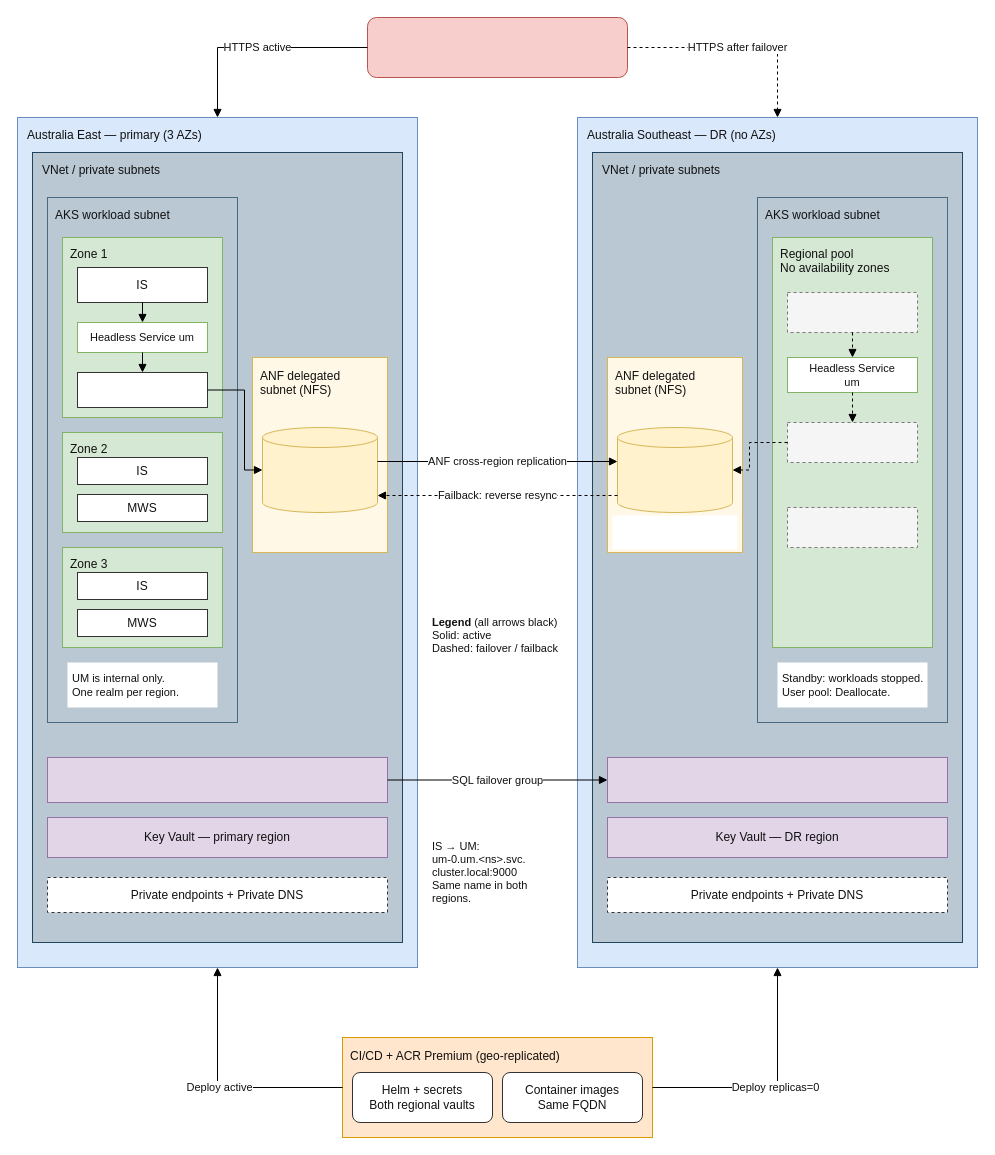
Image size: 995x1155. Some labels were removed from this diagram. Each missing label, with the centre of its shape:
Azure Front Door Premium + WAF HTTPS: IS and MWS only: the point at 497,47
Azure SQL Database Geo-secondary: the point at 777,779
Azure SQL Database Primary (IS and MWS): the point at 217,779
IS x3 (replicas=0): the point at 852,312
MWS x2 replicas=0: the point at 852,527
Static PV/PVC um-data-um-0: the point at 674,532
UM data (ANF) read-only until break: the point at 674,469
UM realm data ANF: the point at 320,469
UM StatefulSet (replicas=0): the point at 852,442
UM StatefulSet um-0: the point at 142,390
